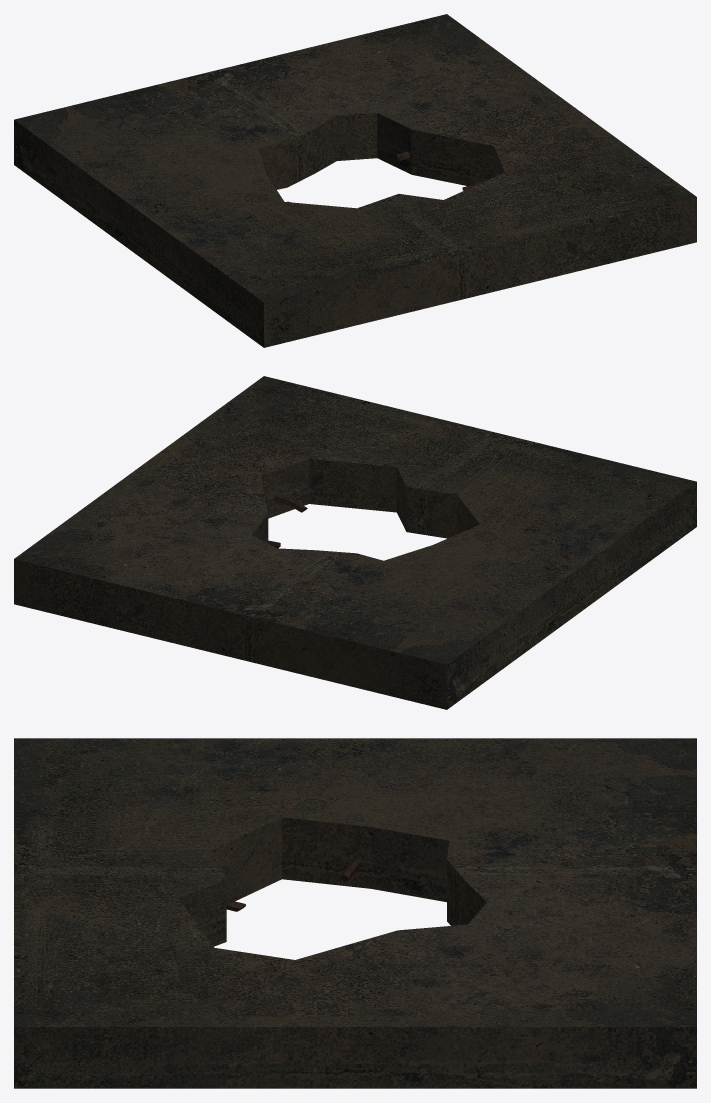
File: floor_ceiling_hr_2.glb
3 views of the same model, one above another, from view 1: azimuth 30°, elevation 25°; view 2: azimuth 150°, elevation 25°; view 3: azimuth 270°, elevation 25° (orthographic). The views are drawn at different scales.
Parts seen in each view (by area): view 1: floor_ceiling_hr_2; view 2: floor_ceiling_hr_2; view 3: floor_ceiling_hr_2.
Boxes of the visible parts, <box> form: floor_ceiling_hr_2: <box>14,14,696,347</box>; floor_ceiling_hr_2: <box>14,376,696,709</box>; floor_ceiling_hr_2: <box>14,738,696,1088</box>.
Size of the model in its own units: 4 by 0.4 by 4.
2 materials, 2 textured.
